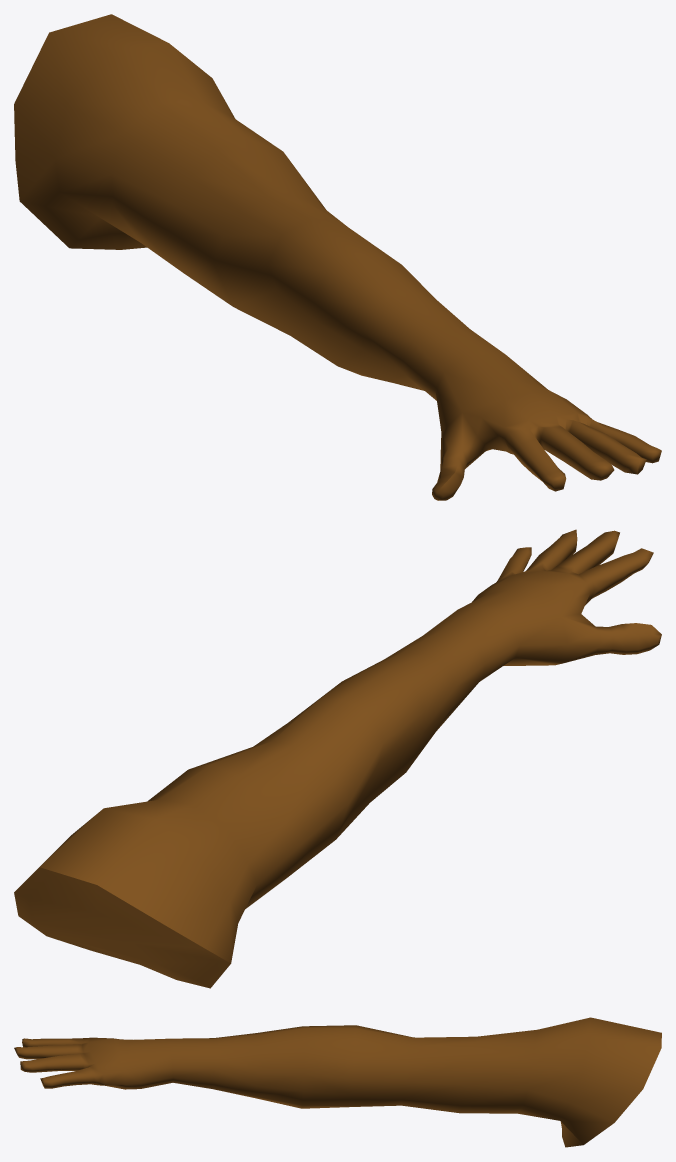
The model's file is Arm.fbx.
The picture shows the model from 3 angles, top to bottom: view 1: azimuth 30°, elevation 25°; view 2: azimuth 150°, elevation 25°; view 3: azimuth 270°, elevation 25°; orthographic projection. The views are drawn at different scales.
Parts seen in each view (by area): view 1: Arm; view 2: Arm; view 3: Arm.
Boxes of the visible parts, bbox=[...] form: Arm: bbox=[14, 14, 661, 500]; Arm: bbox=[14, 529, 661, 988]; Arm: bbox=[14, 1017, 661, 1147].
Bounding box in the file's own units: 19.2 × 14.33 × 78.6.
